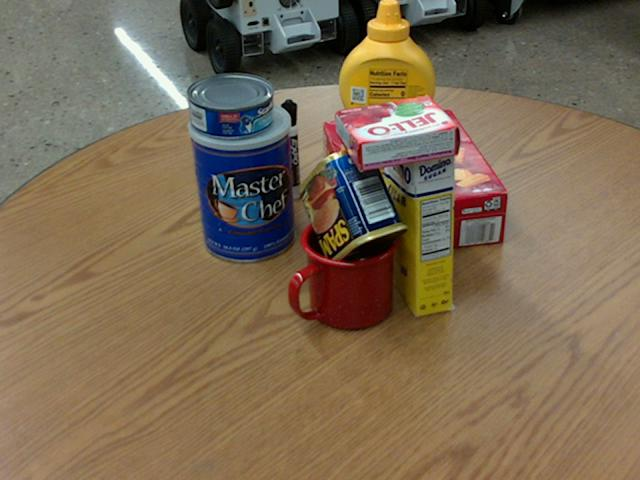cracker_box: (321, 109, 505, 258)
gelatin_box: (336, 94, 458, 169)
large_marker: (280, 101, 300, 200)
master_chef_can: (188, 98, 296, 261)
mug: (285, 213, 397, 331)
mustard_bottle: (339, 0, 435, 192)
potted_meat_can: (297, 146, 408, 271)
sugar_box: (380, 108, 453, 318)
tomato_soup_can: (364, 42, 425, 148)
tuna_fish_can: (186, 73, 273, 137)
